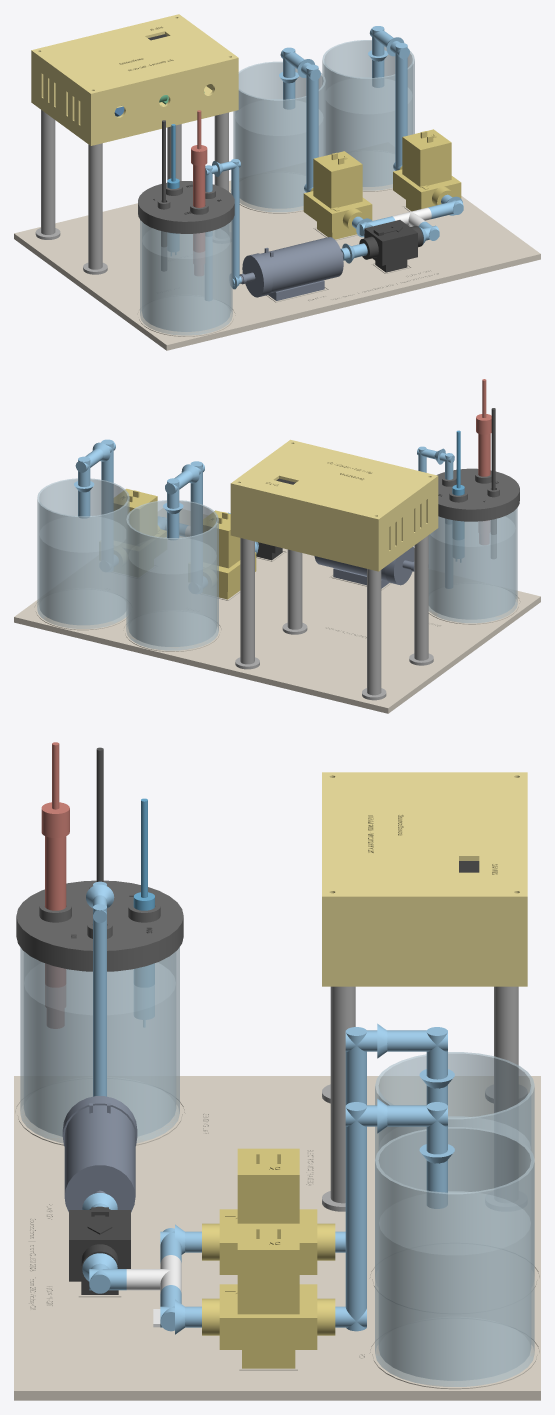
Rendered from sourcesense.glb.
The picture shows the model from 3 angles, top to bottom: view 1: azimuth 30°, elevation 25°; view 2: azimuth 150°, elevation 25°; view 3: azimuth 270°, elevation 25°; orthographic projection. The views are drawn at different scales.
Parts seen in each view (by area): view 1: NAUO1, NAUO13, NAUO18, NAUO2, NAUO12, NAUO19, NAUO26, NAUO7, NAUO11, NAUO10, NAUO3, NAUO8 (+8 smaller); view 2: NAUO1, NAUO13, NAUO12, NAUO18, NAUO19, NAUO2, NAUO26, NAUO3, NAUO14, NAUO16, NAUO11, NAUO15 (+6 smaller); view 3: NAUO1, NAUO12, NAUO19, NAUO2, NAUO26, NAUO18, NAUO13, NAUO10, NAUO3, NAUO11, NAUO7, NAUO4 (+6 smaller).
Boxes of the visible parts, x1,y1,x2,y2 form: NAUO1: (14, 180, 540, 350); NAUO13: (233, 61, 325, 212); NAUO18: (31, 53, 238, 145); NAUO2: (140, 220, 232, 335); NAUO12: (322, 40, 414, 190); NAUO19: (31, 14, 238, 96); NAUO26: (205, 26, 463, 300); NAUO7: (239, 237, 343, 300); NAUO11: (303, 151, 372, 239); NAUO10: (393, 129, 461, 211); NAUO3: (138, 181, 234, 233); NAUO8: (359, 220, 423, 272); NAUO1: (14, 508, 540, 713); NAUO13: (126, 500, 218, 650); NAUO12: (37, 478, 129, 628); NAUO18: (230, 479, 438, 571); NAUO19: (230, 439, 438, 521); NAUO2: (428, 508, 517, 623); NAUO26: (74, 439, 454, 588); NAUO3: (436, 468, 519, 521); NAUO14: (362, 569, 386, 700); NAUO16: (235, 538, 259, 669); NAUO11: (203, 510, 256, 599); NAUO15: (409, 535, 433, 665); NAUO1: (14, 1076, 540, 1400); NAUO12: (375, 1127, 534, 1386); NAUO19: (322, 772, 527, 901); NAUO2: (20, 947, 179, 1143); NAUO26: (82, 881, 454, 1334); NAUO18: (322, 901, 527, 986); NAUO13: (375, 1052, 534, 1280); NAUO10: (202, 1223, 335, 1368); NAUO3: (16, 880, 183, 971); NAUO11: (202, 1148, 335, 1274); NAUO7: (62, 1096, 137, 1212); NAUO4: (41, 742, 69, 1028).
Size of the model in its own units: 0.42 by 0.236 by 0.297.
